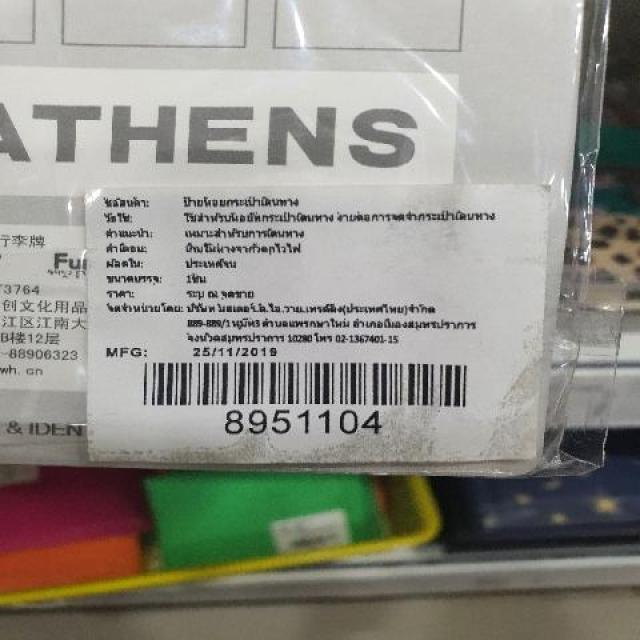Barcode: (135, 354, 480, 433)
